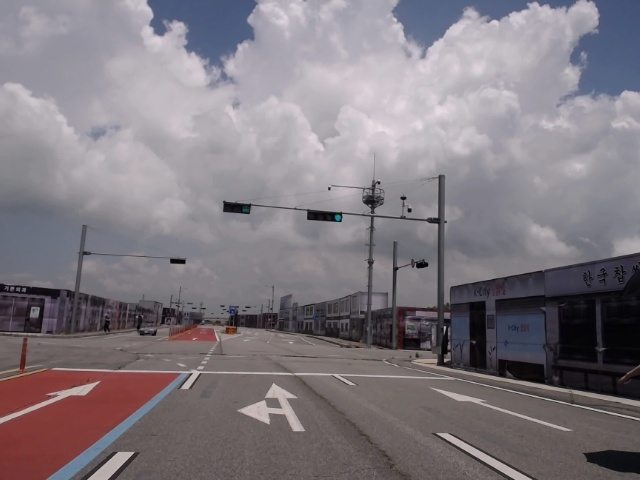straight_green_4: (307, 211, 343, 223)
